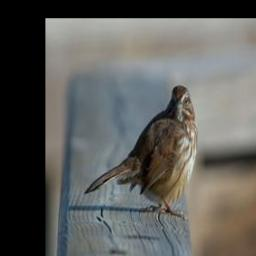Sparrow: (84, 85, 198, 219)
